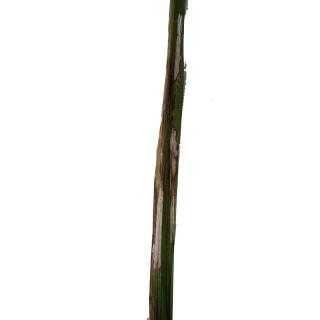Hawar-Daun: (154, 120, 174, 248), (152, 176, 166, 316), (172, 1, 189, 94)
